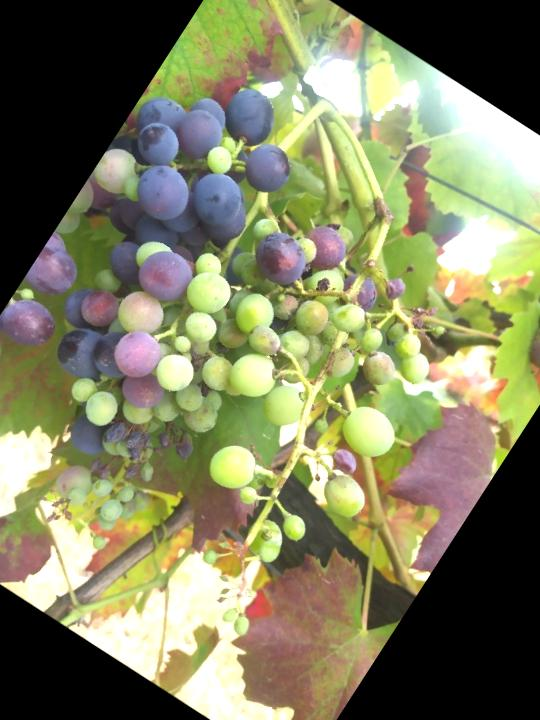grape: (0, 40, 381, 570), (69, 185, 491, 660)
